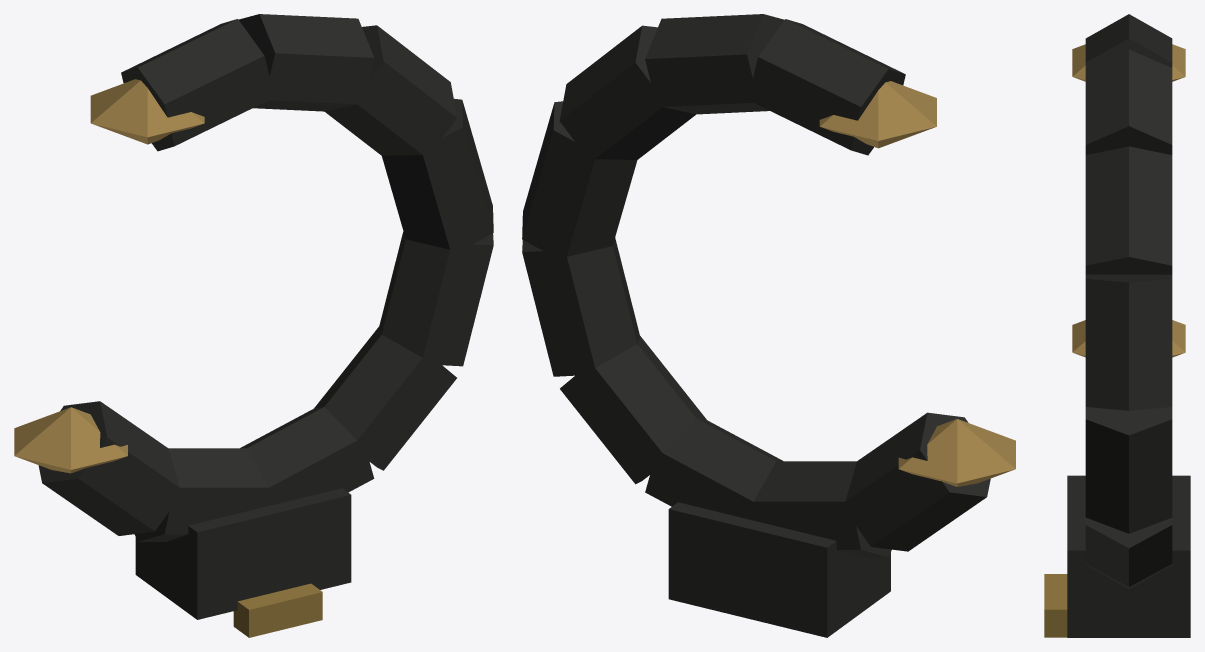
Rendered from molten_manacle.obj.
3 renders of one model, left to right at view 1: azimuth 30°, elevation 25°; view 2: azimuth 150°, elevation 25°; view 3: azimuth 270°, elevation 25°, orthographic. The views are drawn at different scales.
Parts seen in each view (by area): view 1: molten_manacle; view 2: molten_manacle; view 3: molten_manacle.
Boxes of the visible parts, box(x1,y1,x2,y2) form: molten_manacle: box(14, 14, 493, 637); molten_manacle: box(522, 14, 1015, 637); molten_manacle: box(1044, 14, 1190, 637).
Bounding box in the file's own units: 1.43 × 1.66 × 0.38.
